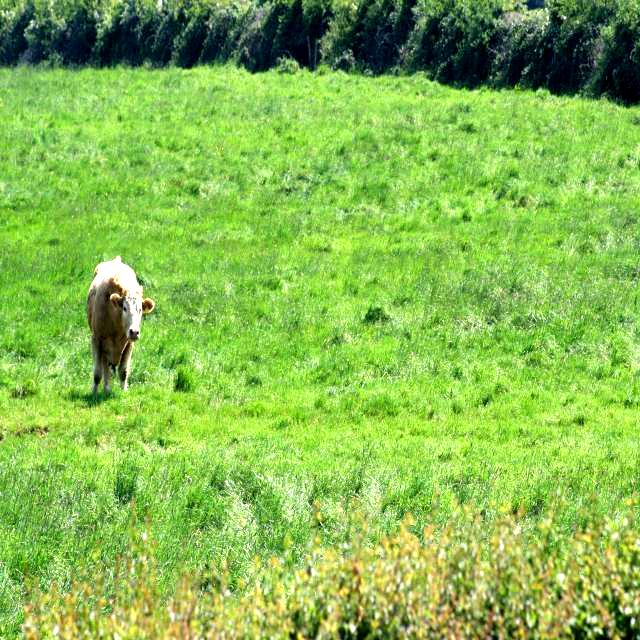COW: (86, 257, 154, 394)
